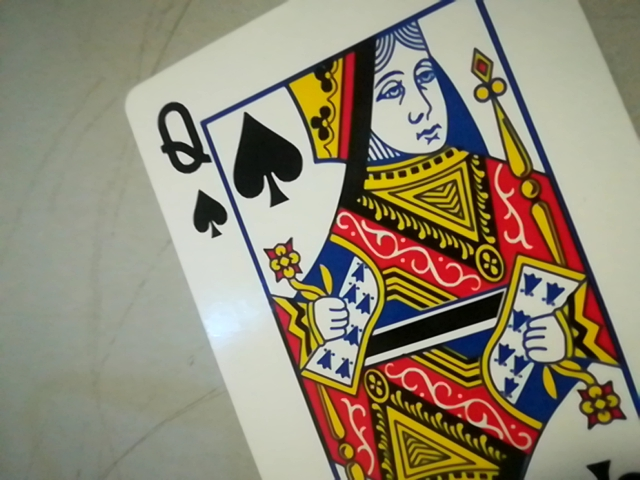ht q: (146, 89, 229, 242)
